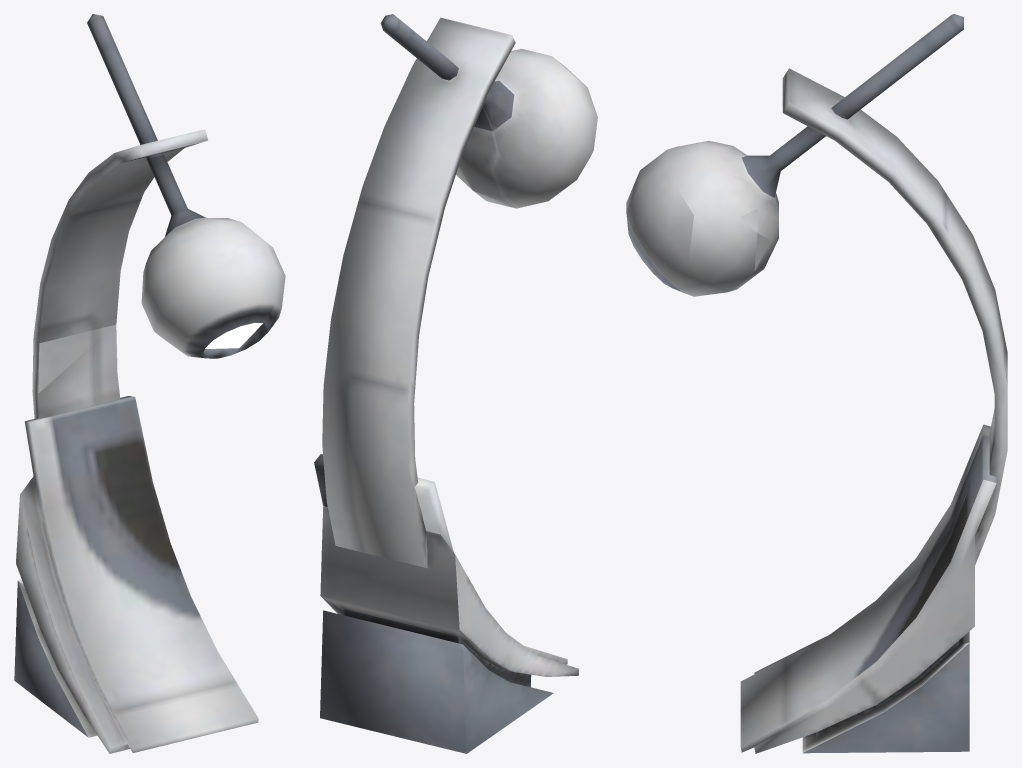
The model's file is Desk_Lamp_01.FBX.
3 renders of one model, left to right at view 1: azimuth 30°, elevation 25°; view 2: azimuth 150°, elevation 25°; view 3: azimuth 270°, elevation 25°, orthographic. The views are drawn at different scales.
Visible parts, largest first — view 1: Desk_Lamp_01; view 2: Desk_Lamp_01; view 3: Desk_Lamp_01.
Boxes of the visible parts, bbox=[...] form: Desk_Lamp_01: bbox=[14, 14, 285, 753]; Desk_Lamp_01: bbox=[314, 14, 597, 753]; Desk_Lamp_01: bbox=[626, 14, 1007, 753].
Bounding box in the file's own units: 0.1181 × 0.5176 × 0.2531.
